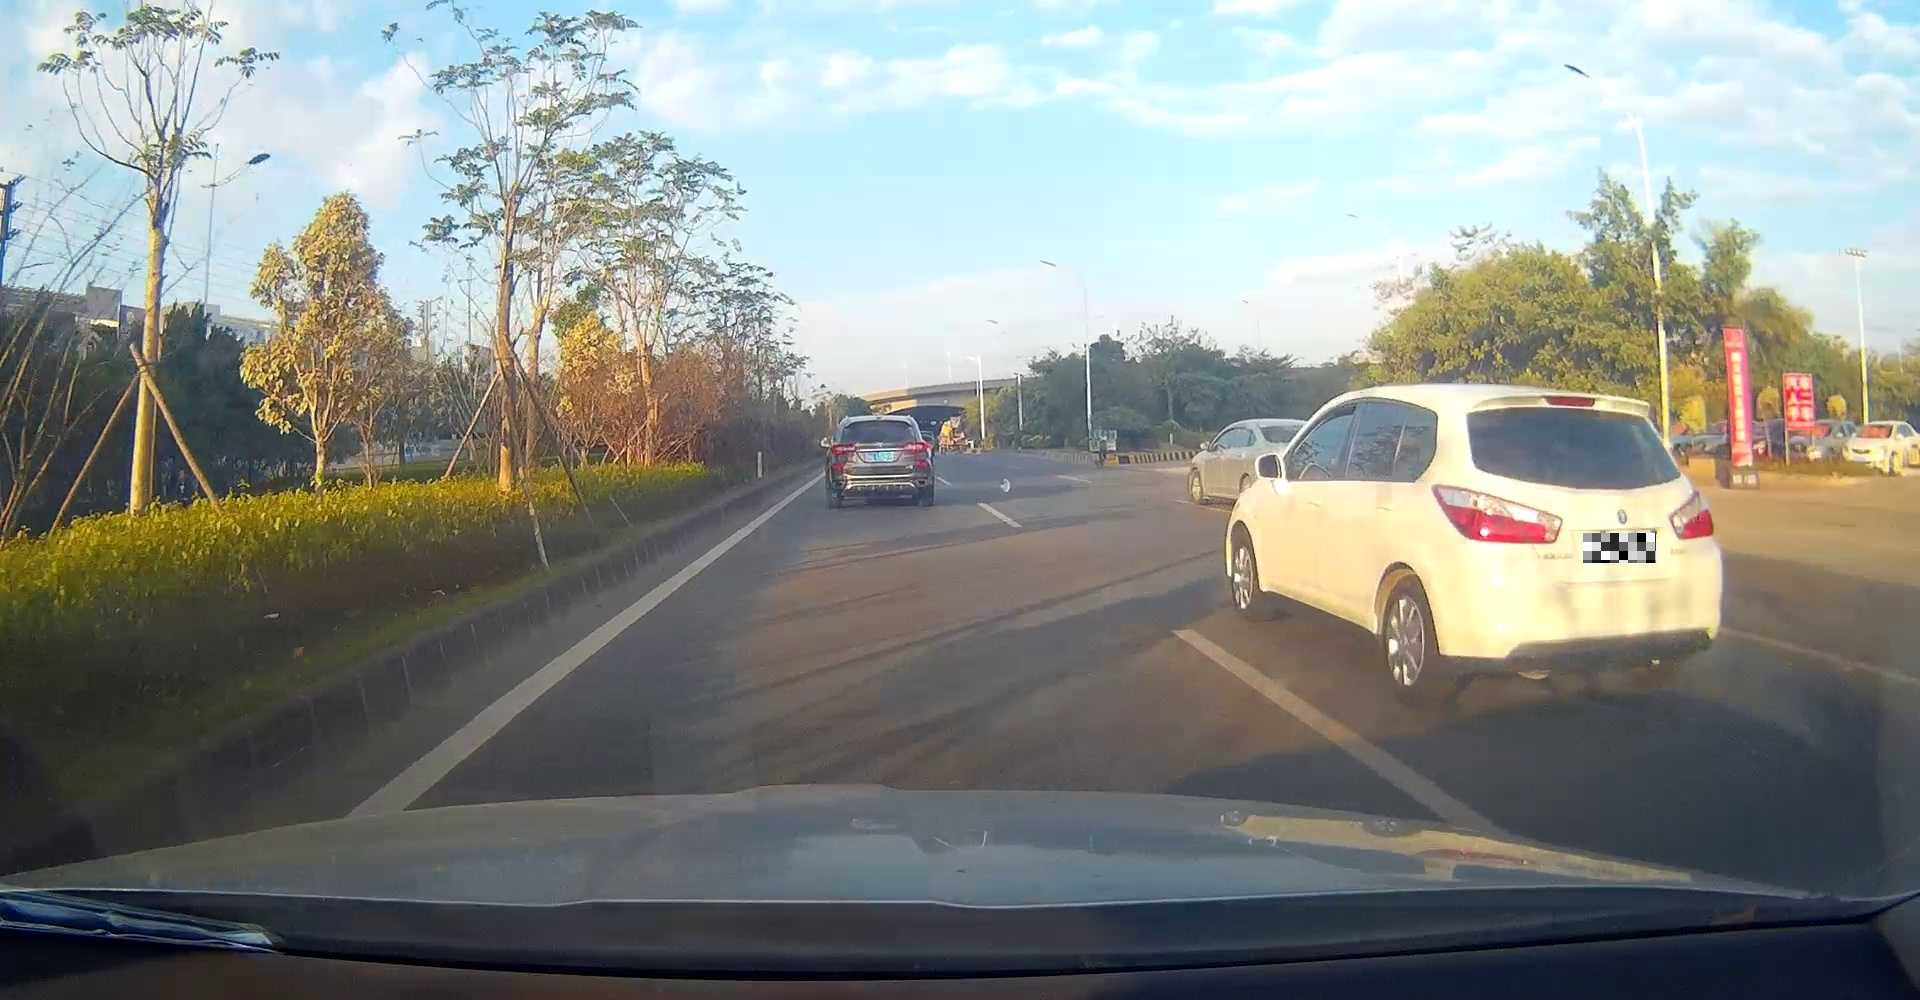L_light: (1430, 484, 1563, 544), (830, 443, 857, 456)
R_light: (1669, 489, 1714, 541), (903, 442, 930, 454)
T_light: (1542, 392, 1597, 409), (869, 418, 888, 423)
day-no: (1429, 390, 1717, 708), (829, 415, 931, 509)
plate_1: (1583, 533, 1656, 563)
